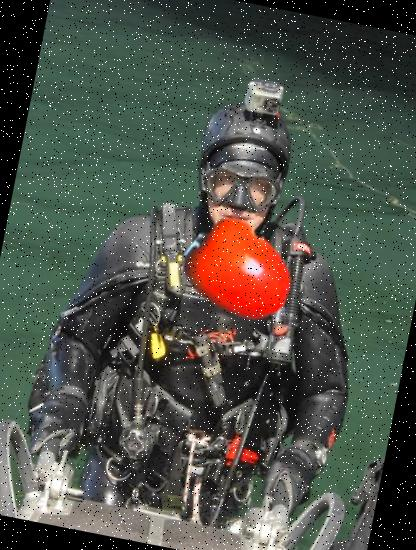Kaki: (174, 207, 306, 338)
